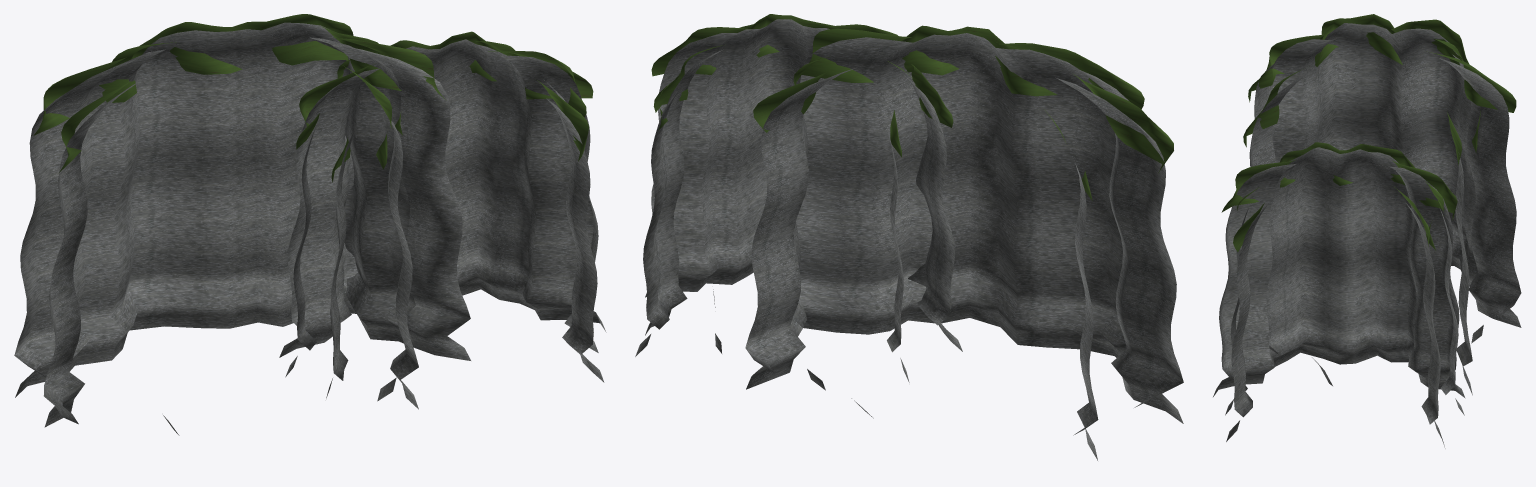
File: karst-island-03.glb
3 views of the same model, side by side, from view 1: azimuth 30°, elevation 25°; view 2: azimuth 150°, elevation 25°; view 3: azimuth 270°, elevation 25° (orthographic). The views are drawn at different scales.
Visible parts, largest first — view 1: Cliff_LOD0, Canopy_LOD0; view 2: Cliff_LOD0, Canopy_LOD0; view 3: Cliff_LOD0, Canopy_LOD0.
Boxes of the visible parts, x1=… form: Cliff_LOD0: x1=14, y1=22, x2=606, y2=435; Canopy_LOD0: x1=33, y1=14, x2=593, y2=182; Cliff_LOD0: x1=635, y1=19, x2=1183, y2=460; Canopy_LOD0: x1=651, y1=14, x2=1173, y2=200; Cliff_LOD0: x1=1213, y1=23, x2=1521, y2=448; Canopy_LOD0: x1=1221, y1=14, x2=1516, y2=251.
Size of what is drawn, in the model's own units: 380 by 229 by 228.
2 materials, 2 textured.
